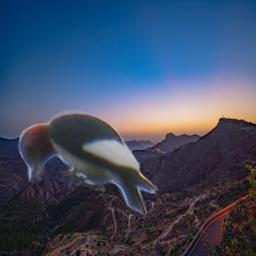Woodpecker: (14, 109, 160, 218)
